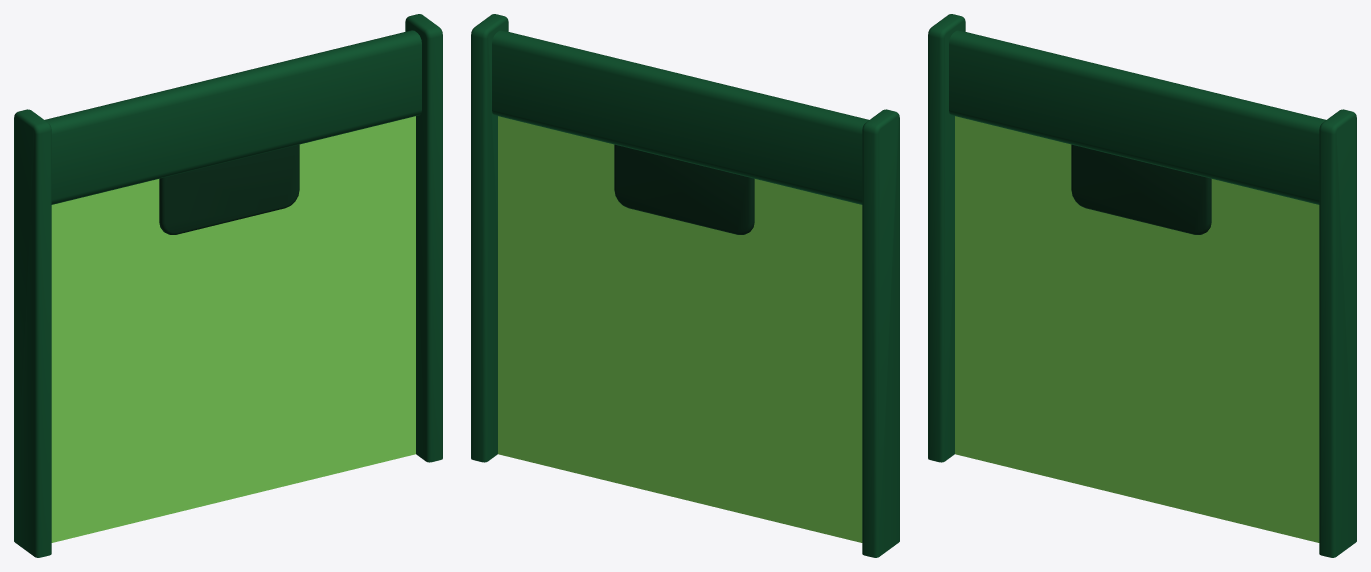
File: KO-Gate.fbx
3 renders of one model, left to right at view 1: azimuth 30°, elevation 25°; view 2: azimuth 150°, elevation 25°; view 3: azimuth 330°, elevation 25°, orthographic.
Visible parts, largest first — view 1: KO-Door; view 2: KO-Door; view 3: KO-Door.
Boxes of the visible parts, x1,y1,x2,y2 form: KO-Door: (14,14,442,557); KO-Door: (471,14,899,557); KO-Door: (928,14,1356,557).
Bounding box in the file's own units: 2.52 × 2.54 × 0.26.
